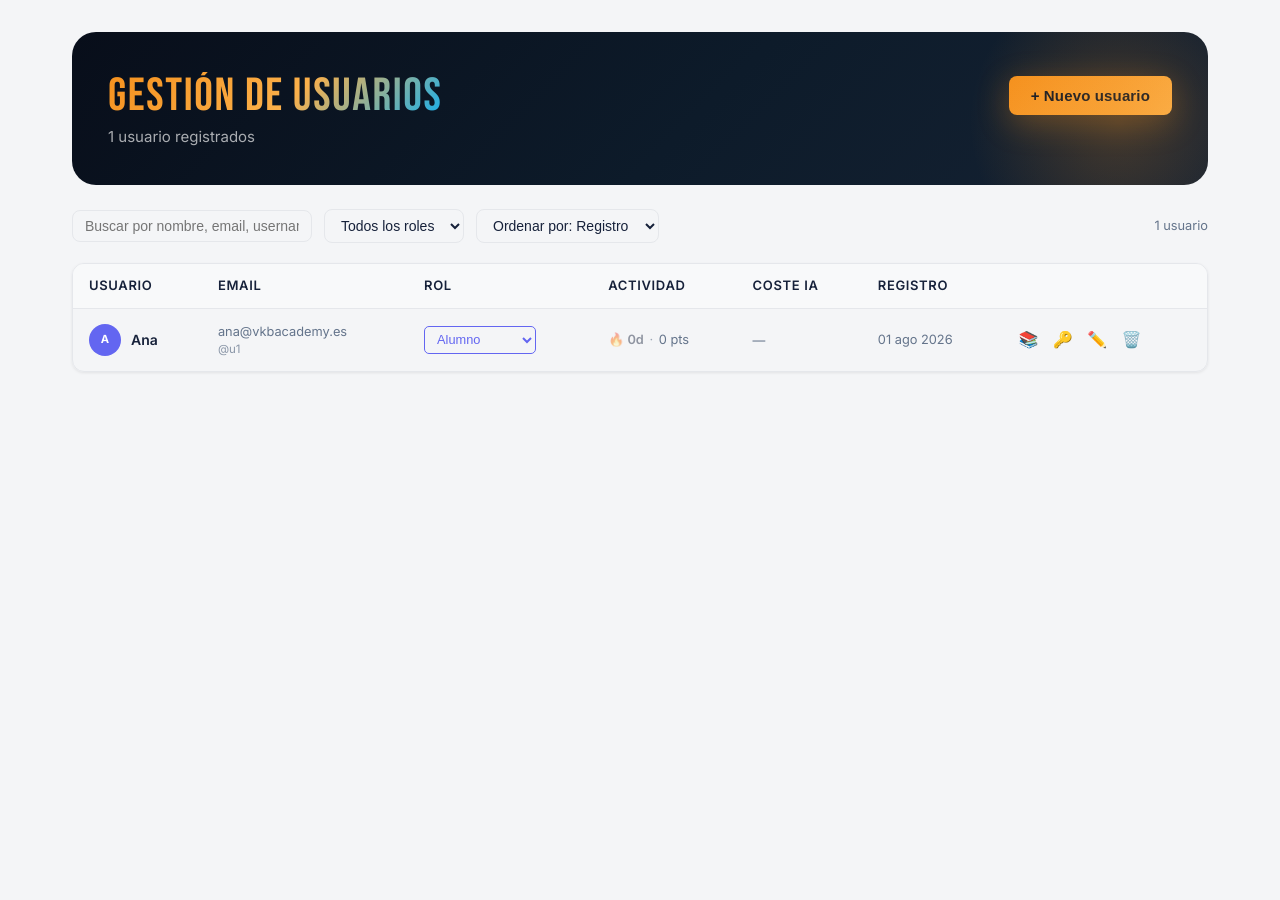
Test: AdminUsersPage — edición de un alumno › parte del nivel que ya tiene el alumno, no de "Sin asignar"
Step 1. Click the button titled "Editar" → {"x": 1097, "y": 340}, box [1083,328,1111,351]
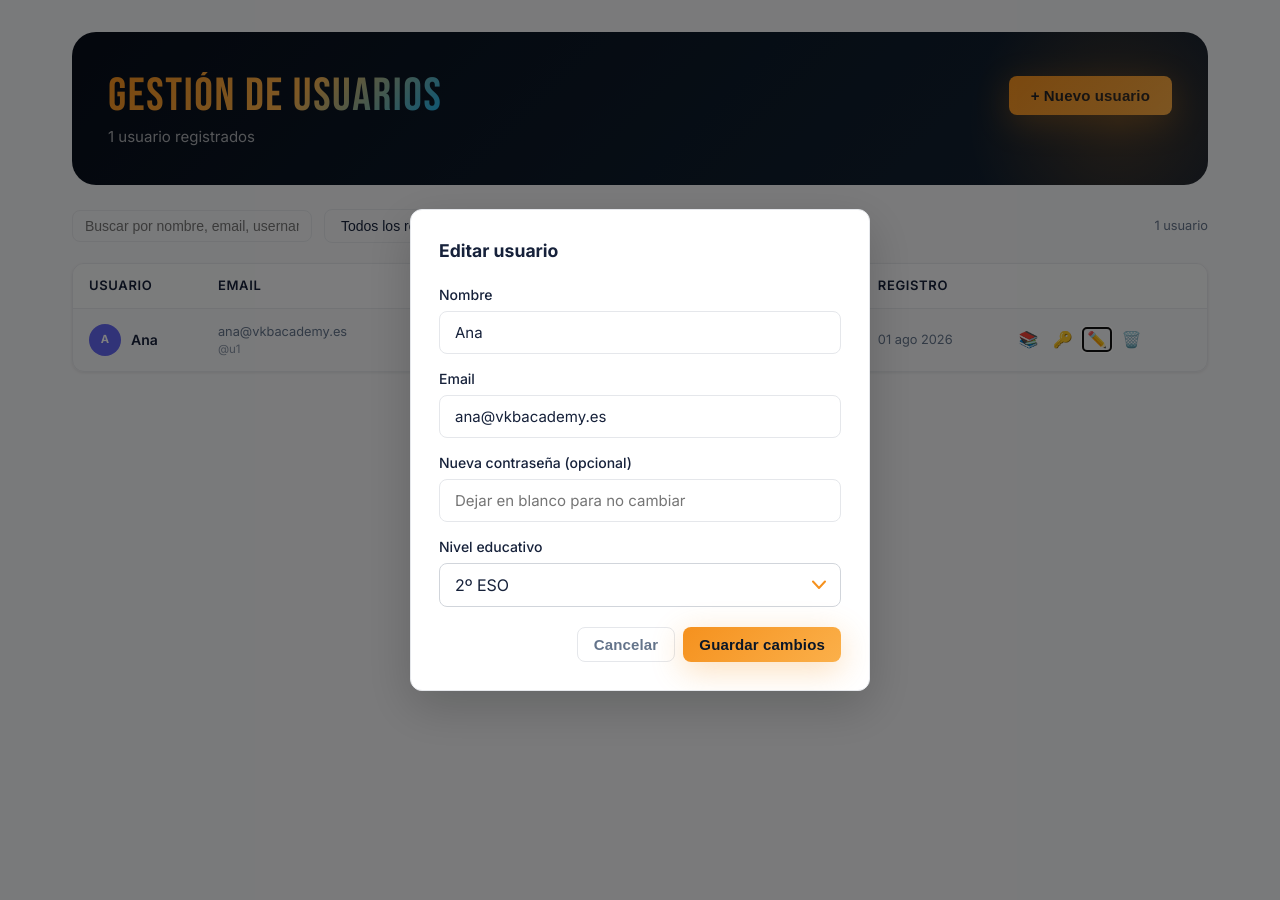
Expected: the dropdown labelled "Nivel educativo" shows "2º ESO", [439,563,841,607]
